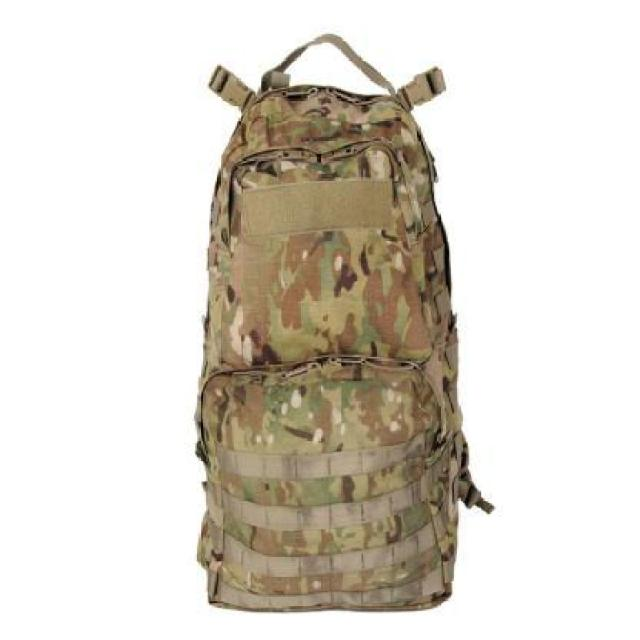backpack: (191, 24, 497, 622)
